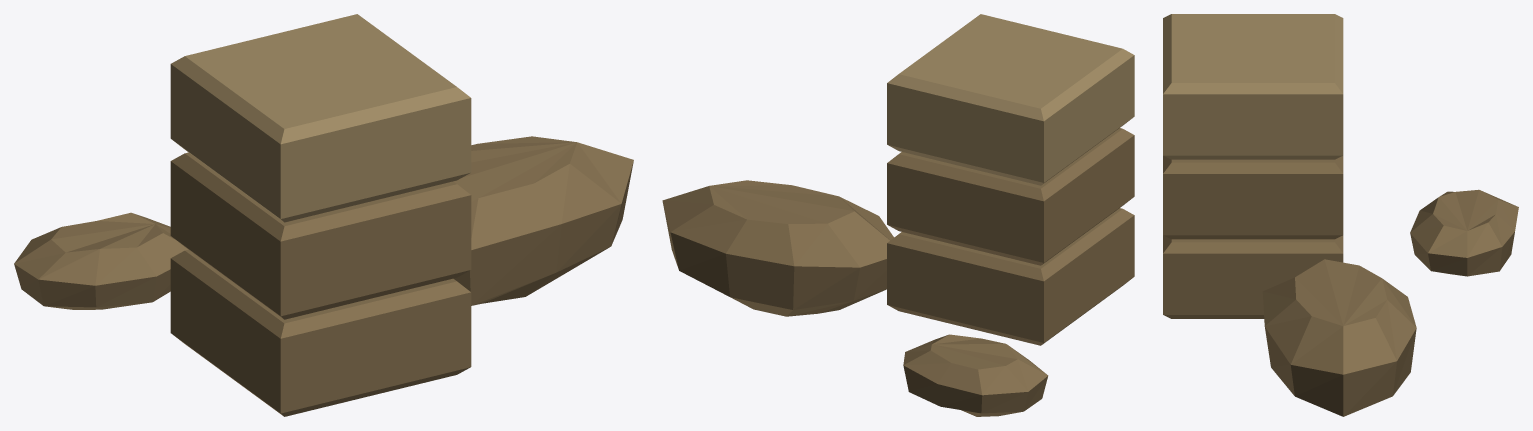
Rendered from broken_pier.obj.
3 renders of one model, left to right at view 1: azimuth 30°, elevation 25°; view 2: azimuth 150°, elevation 25°; view 3: azimuth 270°, elevation 25°, orthographic. The views are drawn at different scales.
Visible parts, largest first — view 1: broken_pier; view 2: broken_pier; view 3: broken_pier.
Part boxes in pixels (left/top/right/bottom): broken_pier: left=14, top=14, right=633, bottom=416; broken_pier: left=662, top=14, right=1134, bottom=416; broken_pier: left=1163, top=14, right=1518, bottom=416.
Bounding box in the file's own units: 4.47 × 2.47 × 3.16.
